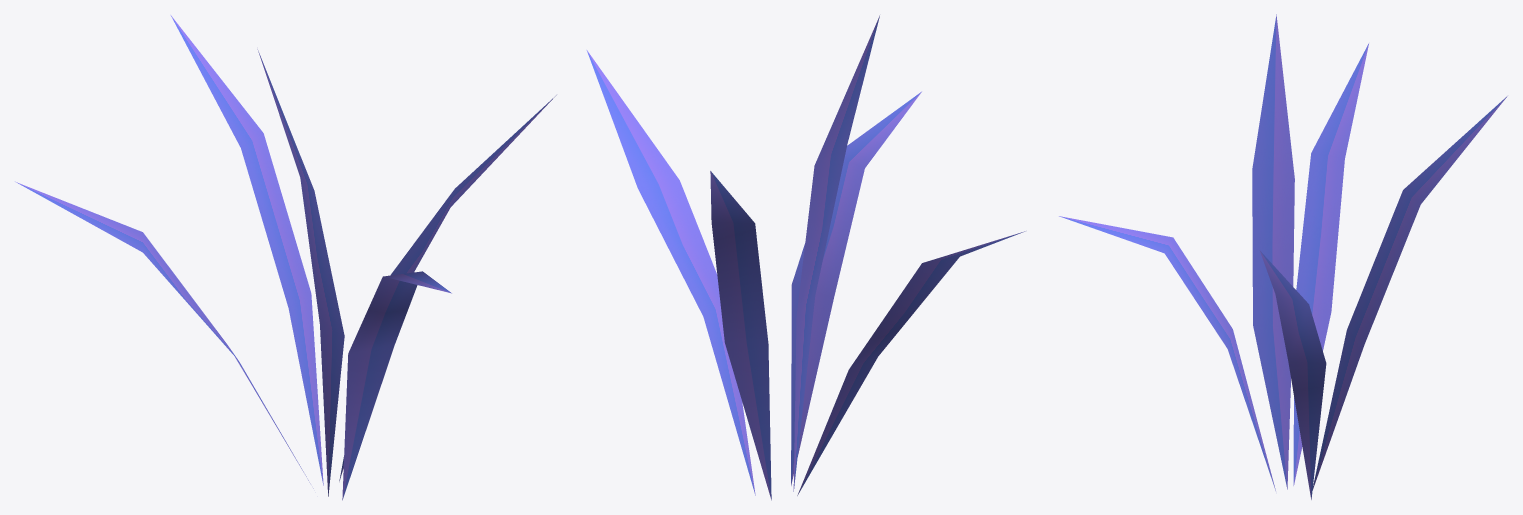
The model's file is grass_generic_clump_small.fbx.
3 renders of one model, left to right at view 1: azimuth 30°, elevation 25°; view 2: azimuth 150°, elevation 25°; view 3: azimuth 270°, elevation 25°, orthographic. The views are drawn at different scales.
Parts seen in each view (by area): view 1: grass_generic_clump_small; view 2: grass_generic_clump_small; view 3: grass_generic_clump_small.
Part boxes in pixels (x1,y1,x2,y2): grass_generic_clump_small: (15, 15, 556, 500); grass_generic_clump_small: (586, 15, 1025, 500); grass_generic_clump_small: (1059, 14, 1507, 499).
Size of the model in its own units: 55.09 by 51.65 by 47.89.
